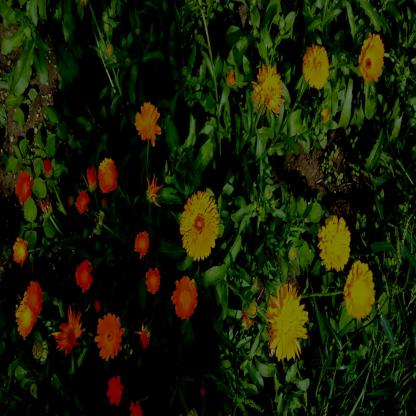marigold: (268, 284, 307, 360), (180, 191, 218, 262), (345, 262, 373, 321), (320, 215, 350, 270), (56, 308, 88, 354), (358, 35, 384, 84), (304, 45, 330, 87), (171, 278, 196, 321), (96, 314, 121, 356), (136, 101, 161, 142), (255, 67, 280, 107), (99, 156, 117, 192), (16, 300, 35, 334), (25, 281, 42, 316), (74, 260, 93, 291), (106, 376, 124, 407), (15, 171, 32, 201), (12, 236, 27, 264), (145, 267, 160, 293), (134, 231, 150, 255), (77, 190, 90, 216)
